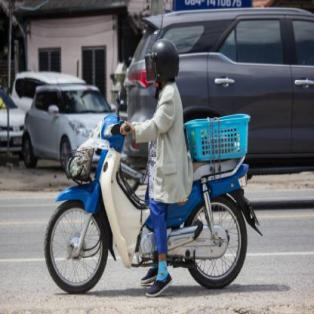Motocicleta: (43, 114, 255, 298)
